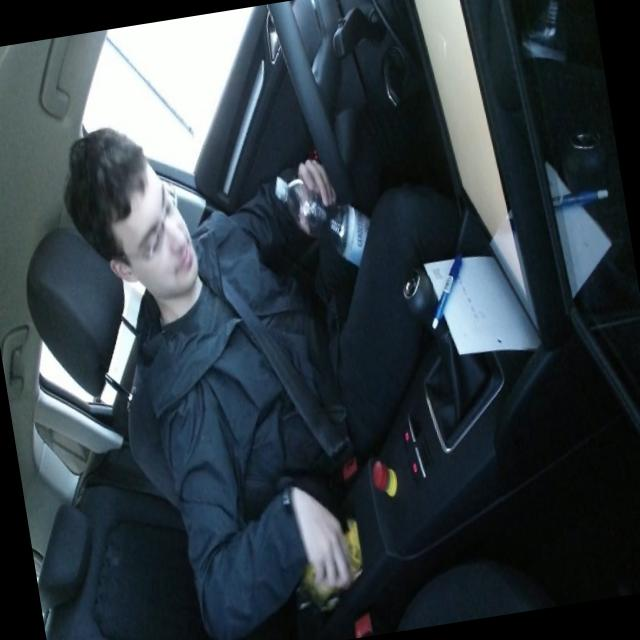pen: (418, 248, 476, 332)
